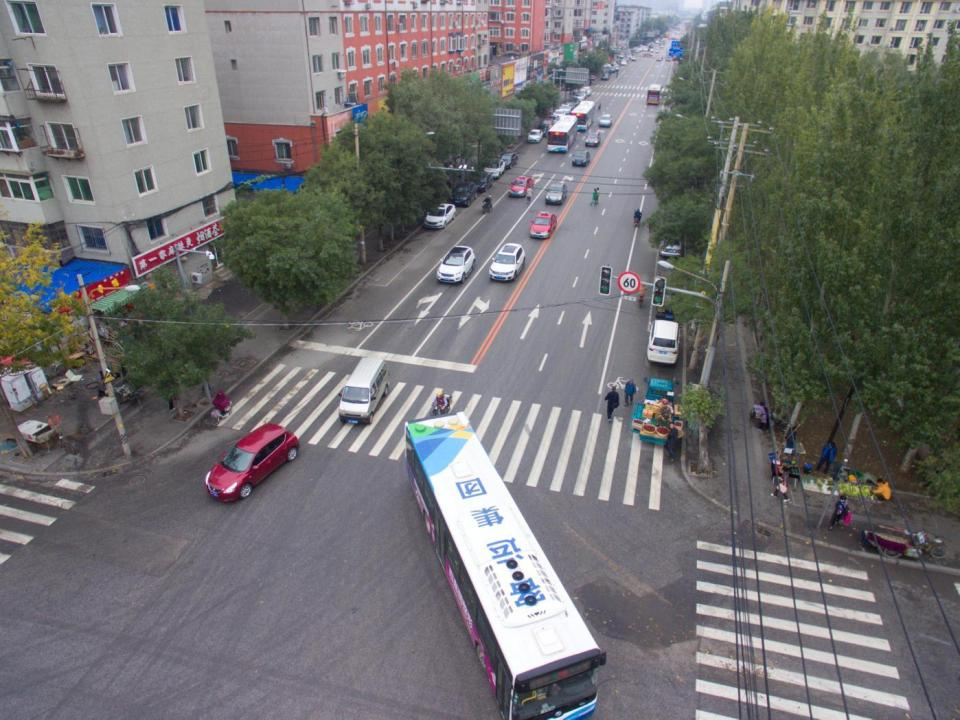bus: (405, 408, 605, 718), (545, 114, 578, 153), (570, 100, 596, 132), (646, 84, 663, 105)
car: (205, 425, 296, 502), (644, 319, 683, 365), (436, 244, 476, 284), (488, 242, 526, 283), (659, 210, 683, 260), (425, 202, 457, 230), (450, 181, 478, 206), (656, 292, 680, 320), (532, 212, 556, 237), (467, 172, 494, 192), (510, 176, 534, 196), (545, 183, 567, 204), (484, 158, 506, 177), (499, 152, 518, 169), (571, 150, 590, 167), (526, 128, 545, 143), (586, 132, 601, 147), (600, 112, 612, 127), (553, 109, 564, 123), (575, 89, 586, 103), (547, 114, 560, 125), (536, 124, 547, 136), (560, 103, 570, 116), (568, 96, 580, 105), (543, 118, 552, 129), (600, 70, 609, 80), (580, 86, 591, 94), (586, 74, 597, 82), (563, 101, 573, 108), (656, 56, 664, 62), (666, 55, 670, 61)
van: (338, 356, 391, 428), (631, 374, 680, 447)
